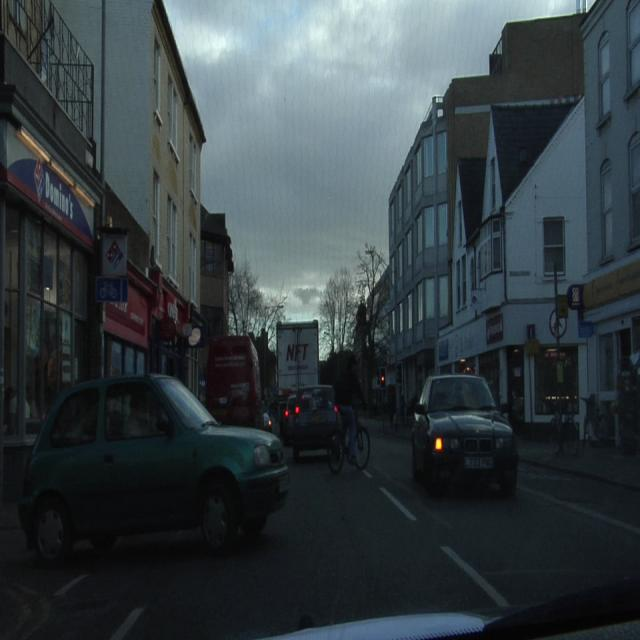Building: (1, 2, 230, 509), (386, 7, 639, 436)
Car: (17, 376, 288, 552), (412, 376, 517, 494), (282, 386, 370, 472)
Road: (0, 431, 635, 633)
Tree: (319, 243, 384, 365), (229, 258, 286, 349)
